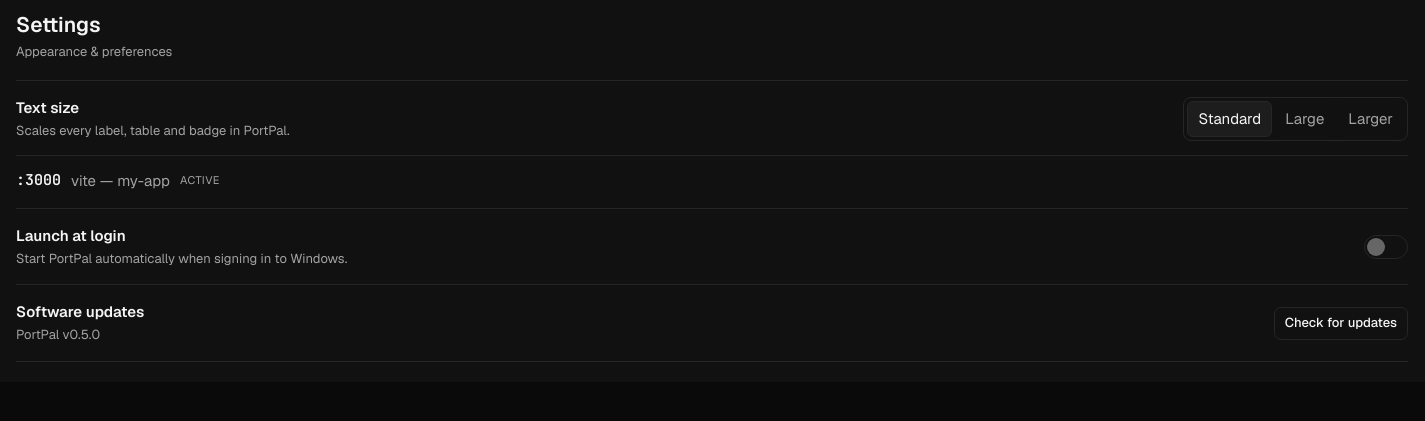
Scenario: secondary pages › displays error when update check fails
Click the button "Check for updates": [1341, 323] box top-left (1274, 307), bottom-right (1408, 340)
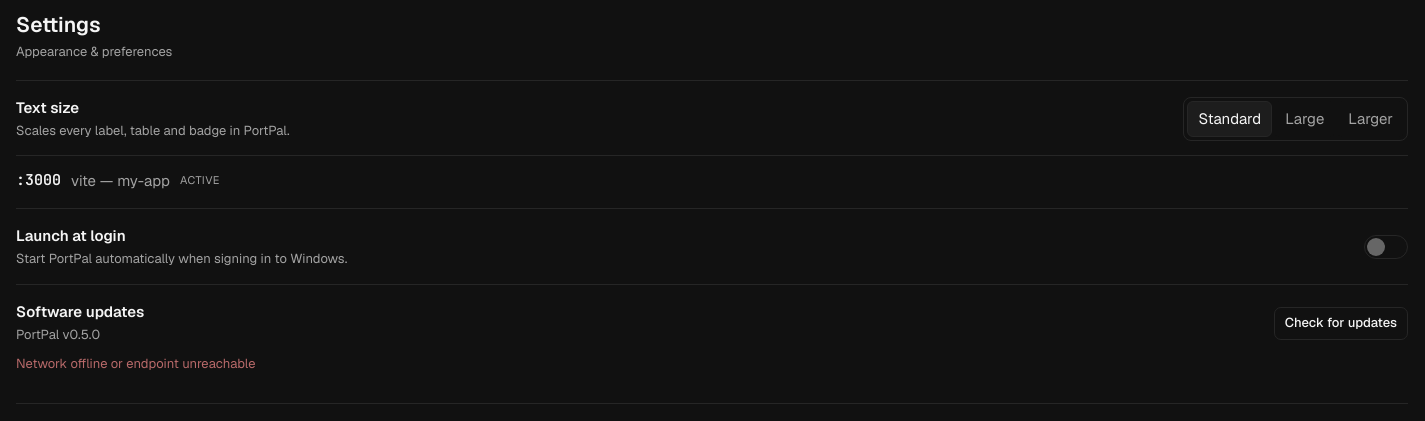
Now the text "Network offline or endpoint unreachable" is shown, box top-left (16, 355), bottom-right (256, 372)
